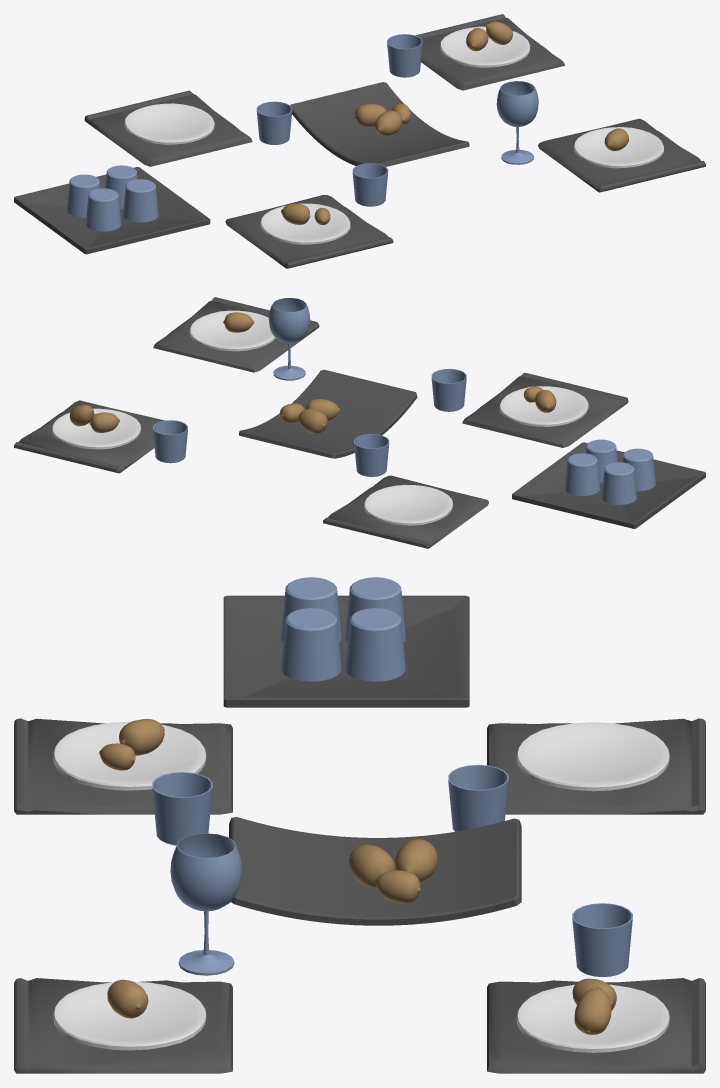
The model's file is TablewareGlass06.FBX.
3 views of the same model, one above another, from view 1: azimuth 30°, elevation 25°; view 2: azimuth 150°, elevation 25°; view 3: azimuth 270°, elevation 25° (orthographic). The views are drawn at different scales.
Parts seen in each view (by area): view 1: TablewareGlass06; view 2: TablewareGlass06; view 3: TablewareGlass06.
Boxes of the visible parts, bbox=[...] form: TablewareGlass06: bbox=[14, 14, 705, 268]; TablewareGlass06: bbox=[14, 297, 705, 548]; TablewareGlass06: bbox=[14, 577, 705, 1073].
Bounding box in the file's own units: 3343 × 397 × 2108.
